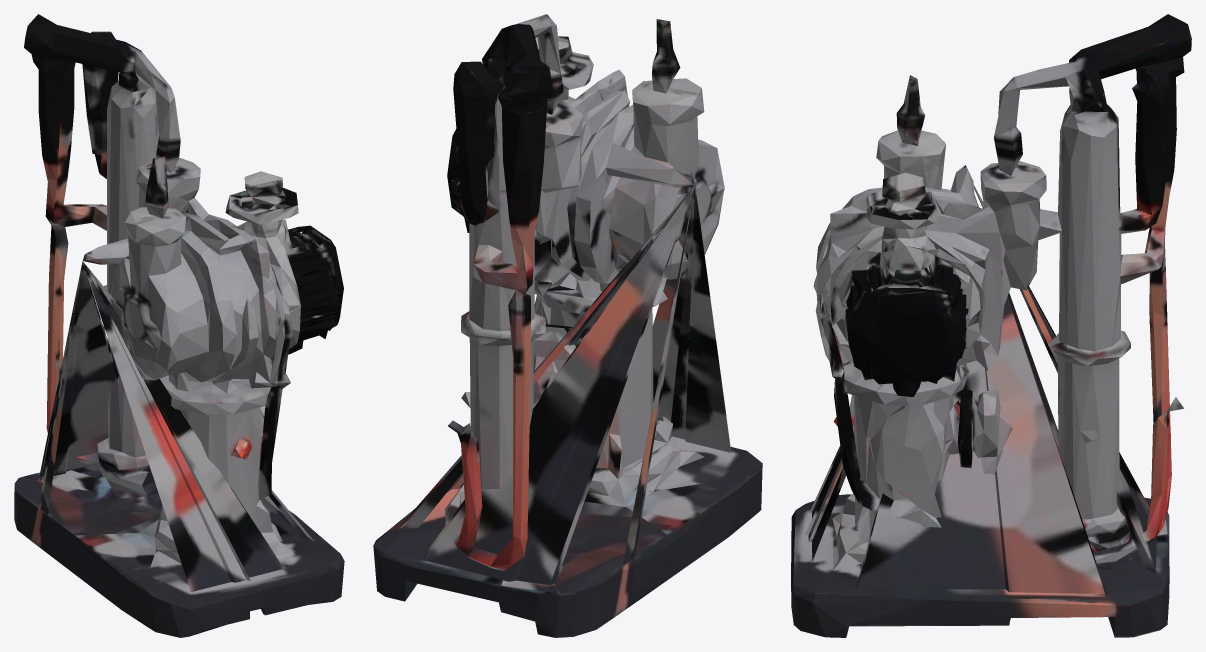
The model's file is pump_machine.glb.
The picture shows the model from 3 angles, left to right: view 1: azimuth 30°, elevation 25°; view 2: azimuth 150°, elevation 25°; view 3: azimuth 270°, elevation 25°; orthographic projection. The views are drawn at different scales.
Parts seen in each view (by area): view 1: textured_mesh.obj; view 2: textured_mesh.obj; view 3: textured_mesh.obj.
Part boxes in pixels (bbox=[...]): textured_mesh.obj: bbox=[14, 14, 344, 637]; textured_mesh.obj: bbox=[373, 14, 762, 637]; textured_mesh.obj: bbox=[791, 14, 1191, 637].
Size of the model in its own units: 0.7539 by 1.6 by 1.08.
Materials: 1 (1 with a texture image).
